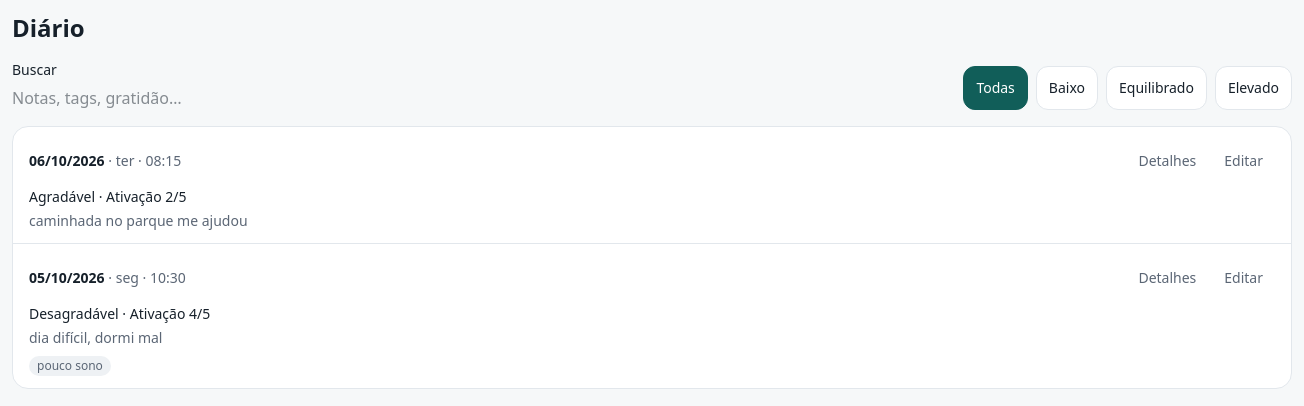
Test: JournalPage › filtra por busca e por humor, com estado vazio de resultado
Expected: the text "caminhada no parque me ajudou" is shown, [29, 211, 248, 230]
Step 1. Type "dormi mal" into the search field labelled "Buscar" → [128, 98], box [12, 86, 243, 110]
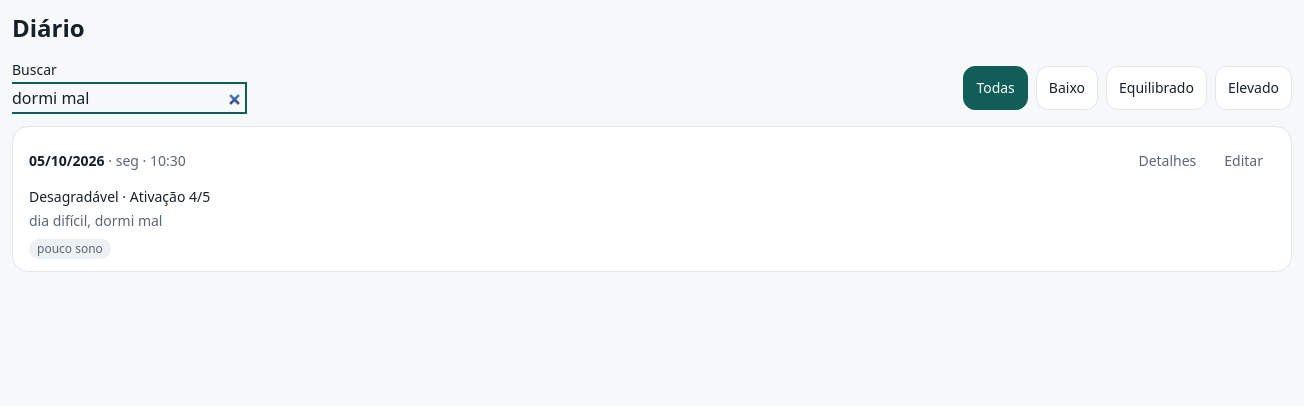
Expected: the text "dia difícil, dormi mal" is shown, [29, 211, 162, 230]
Expected: the text "caminhada no parque" is gone
Step 2. Replace the text in the search field labelled "Buscar" with "nada parecido" → [128, 98], box [12, 86, 243, 110]
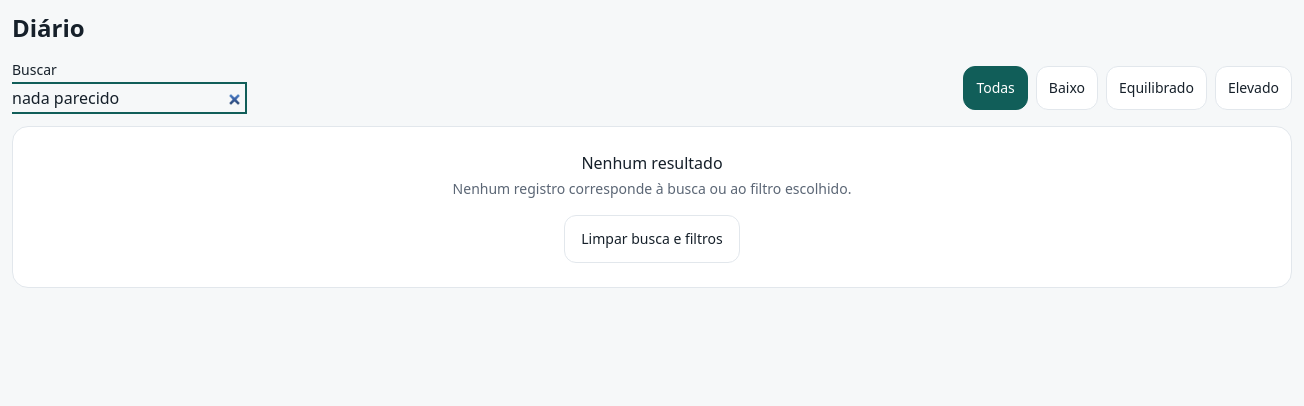
Expected: the text "Nenhum resultado" is shown, [581, 152, 723, 174]
Step 3. Click the button "Limpar busca e filtros" → [652, 239], box [564, 215, 740, 263]
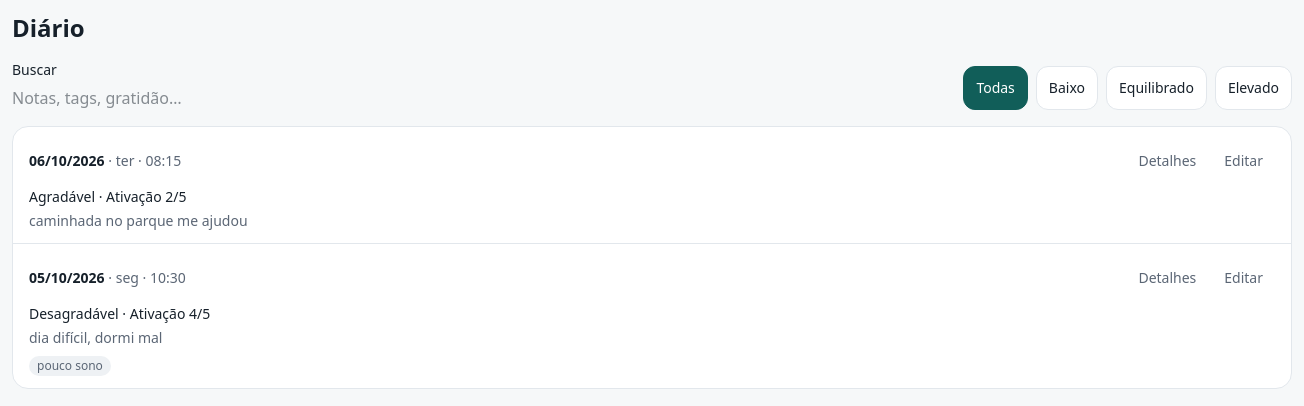
Expected: the text "caminhada no parque me ajudou" is shown, [29, 211, 248, 230]
Step 4. Click the button "Baixo" → [1067, 88], box [1036, 66, 1098, 110]
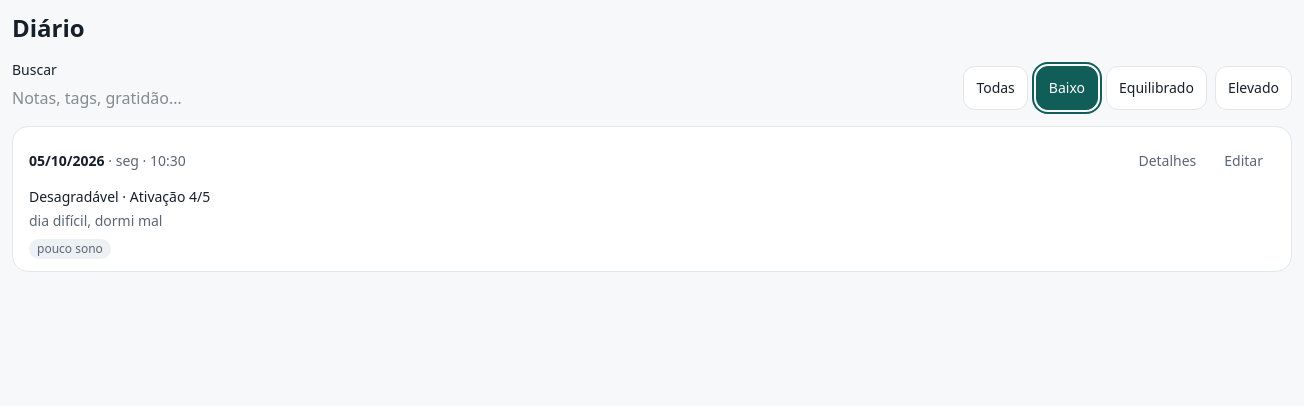
Expected: the text "dia difícil, dormi mal" is shown, [29, 211, 162, 230]
Expected: the text "caminhada no parque" is gone
